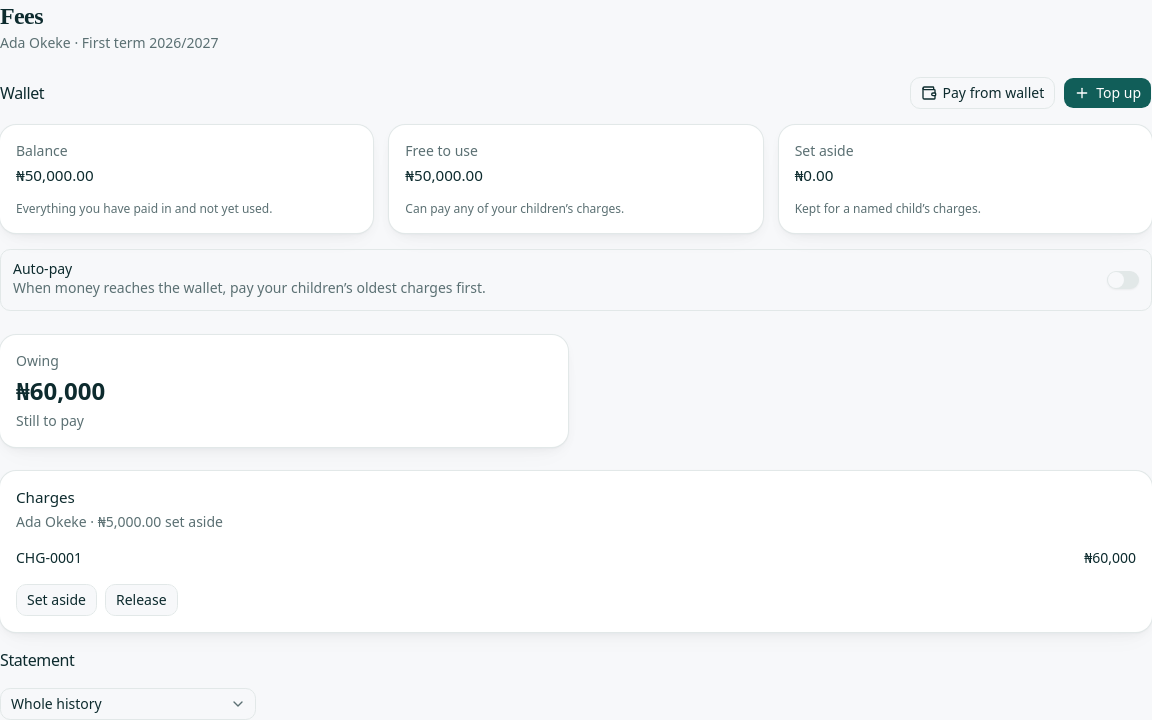
it: FeesPage for a guardian with a wallet › opens Pay from wallet, and Set aside and Release for the selected child
Click the button "Pay from wallet" at point(982, 93), box [910, 77, 1055, 109]
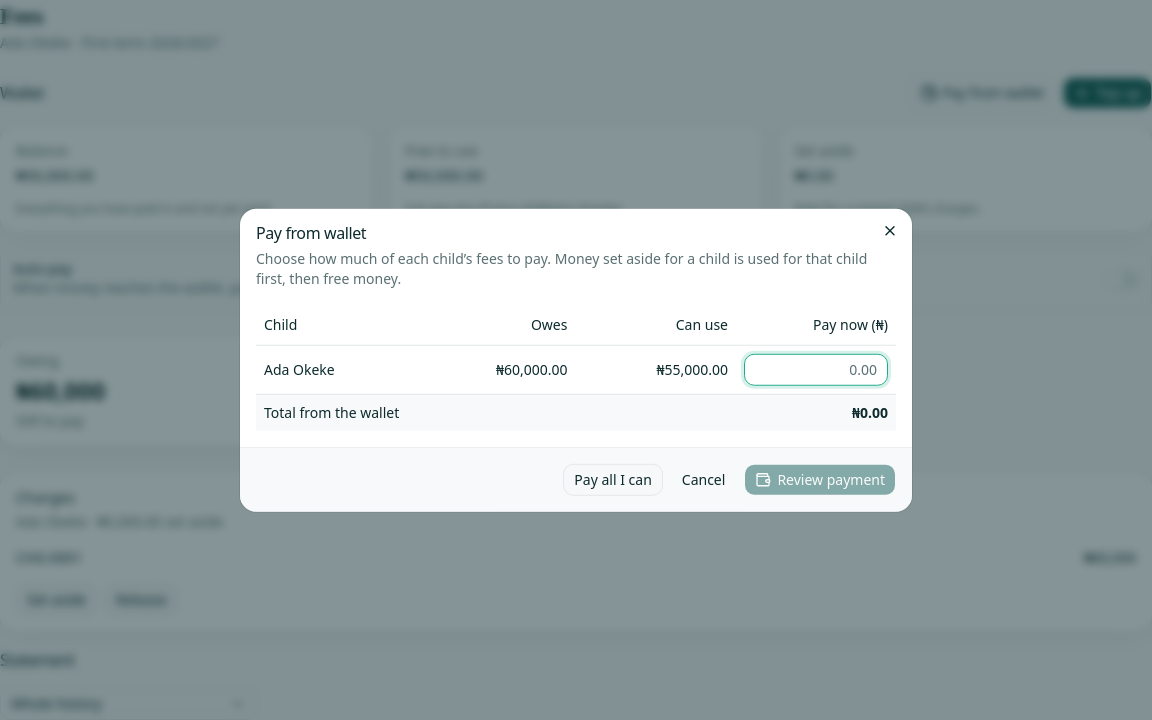
expect the dialog "Pay from wallet" is shown: met, box [240, 209, 912, 511]
Click the button "Cancel" at point(704, 479), box [671, 463, 736, 495]
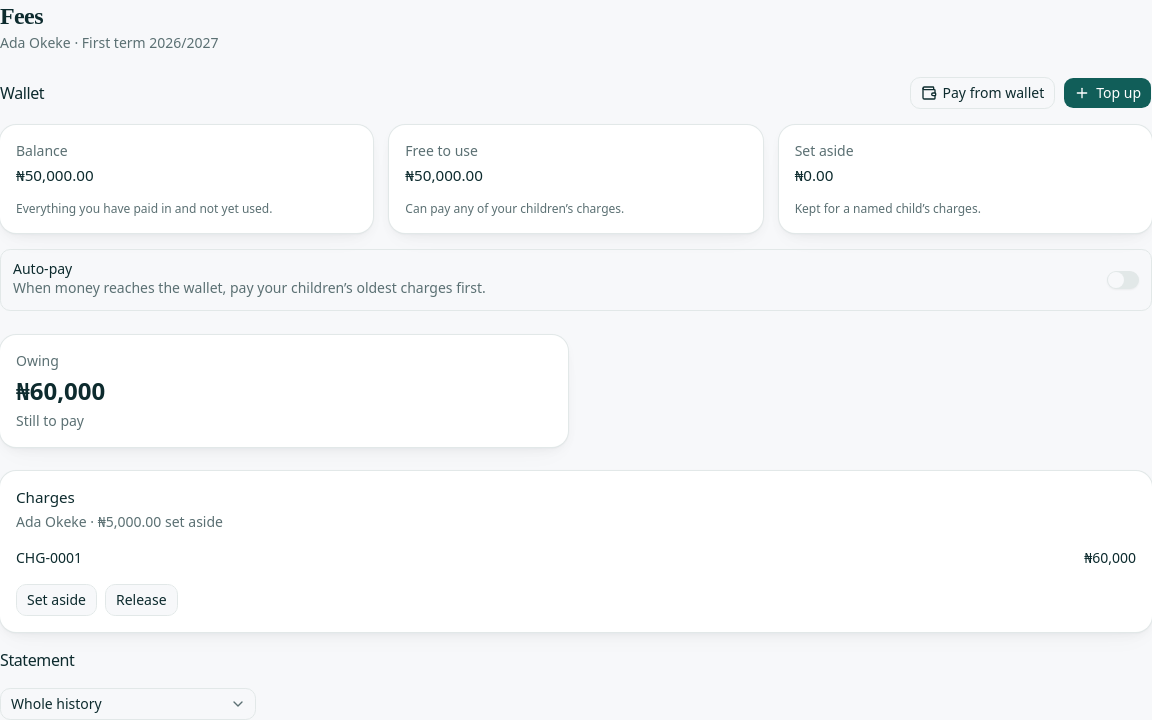
Click the button "Set aside" at point(56, 600), box [16, 584, 97, 616]
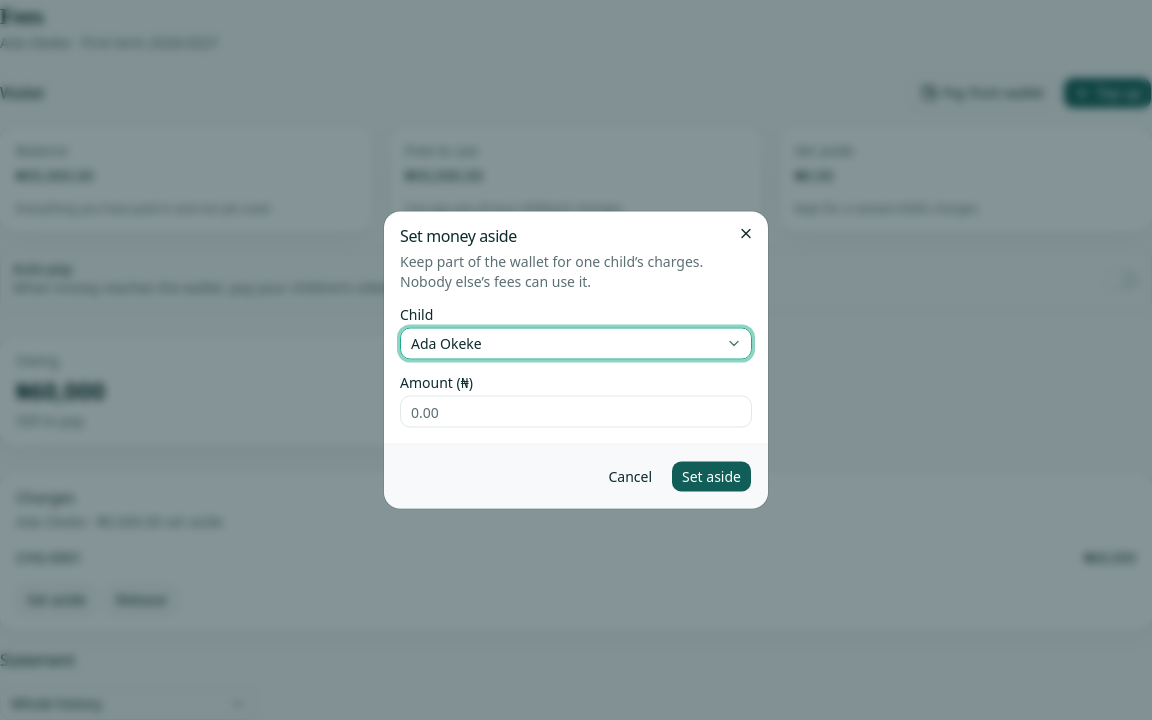
expect the dialog "Set money aside" is shown: met, box [384, 212, 768, 508]
Click the button "Cancel" at point(630, 476), box [597, 460, 663, 492]
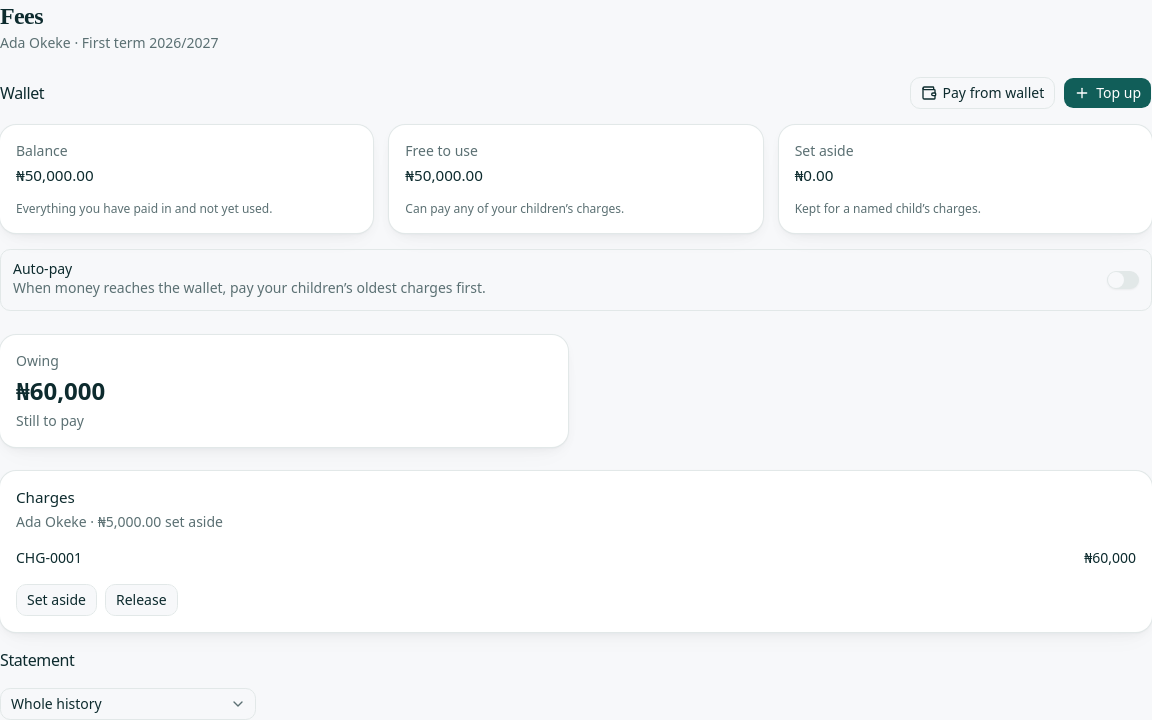
Click the button "Release" at point(141, 600), box [105, 584, 178, 616]
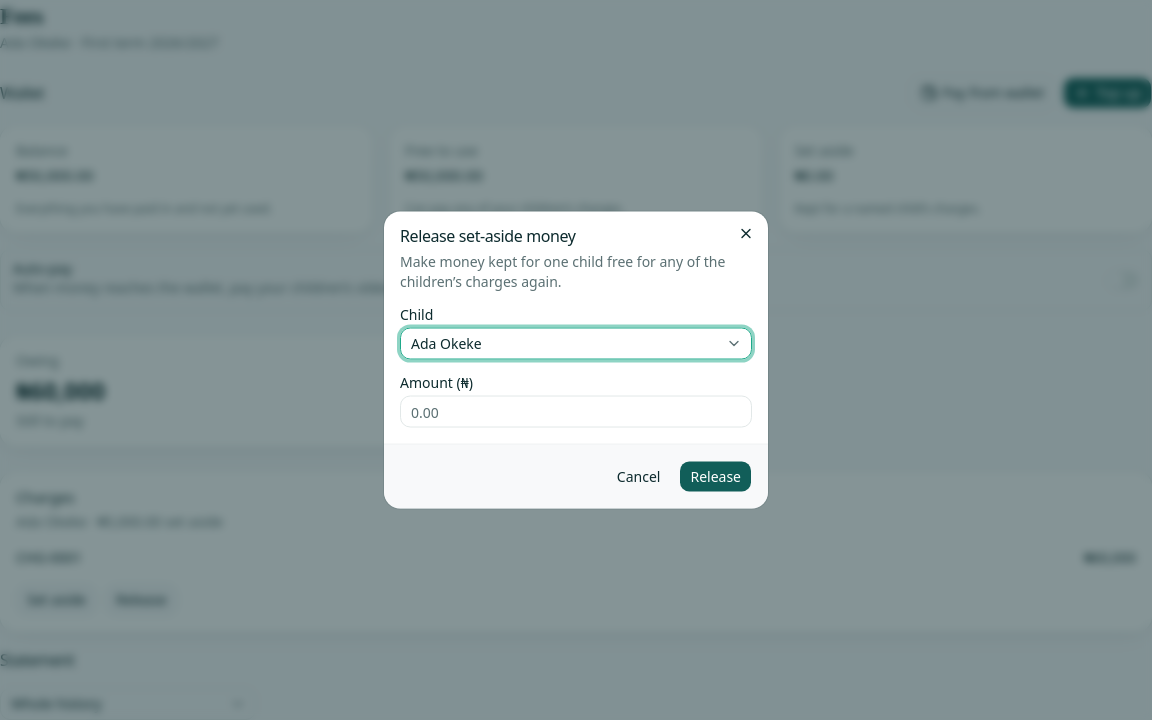
expect the dialog "Release set-aside money" is shown: met, box [384, 212, 768, 508]
